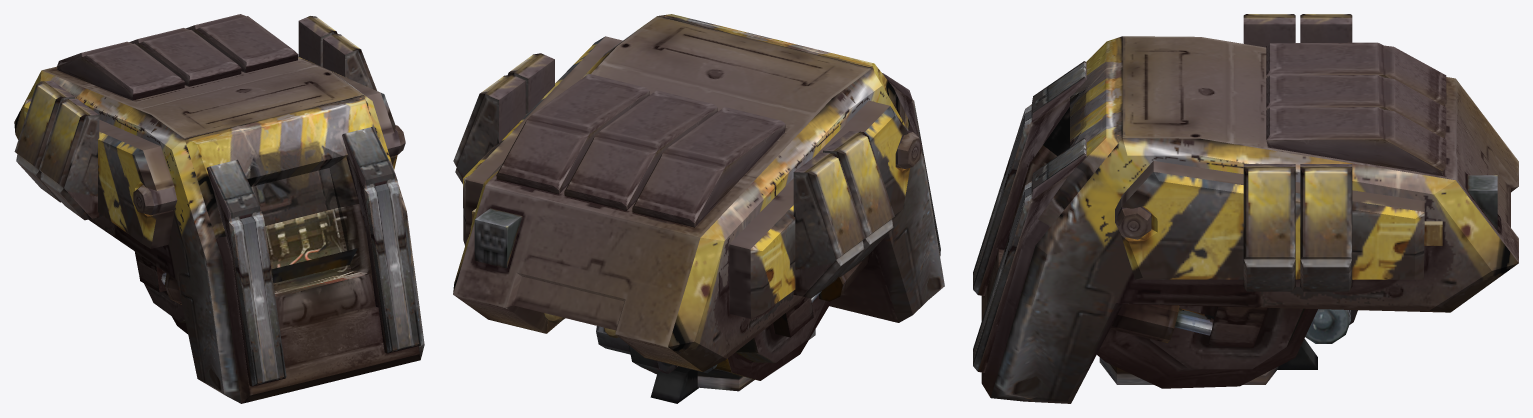
File: 终极电磁炮_炮身.FBX
3 views of the same model, side by side, from view 1: azimuth 30°, elevation 25°; view 2: azimuth 150°, elevation 25°; view 3: azimuth 270°, elevation 25° (orthographic). The views are drawn at different scales.
Parts seen in each view (by area): view 1: Object1321, Object1689; view 2: Object1321, Object1689; view 3: Object1321, Object1689.
Part boxes in pixels (x1,y1,x2,y2): Object1321: (14, 14, 424, 403); Object1689: (129, 28, 241, 86); Object1321: (453, 14, 944, 403); Object1689: (564, 90, 717, 210); Object1321: (973, 14, 1518, 403); Object1689: (1266, 74, 1446, 138).
Bounding box in the file's own units: 9 × 6.32 × 11.31.
